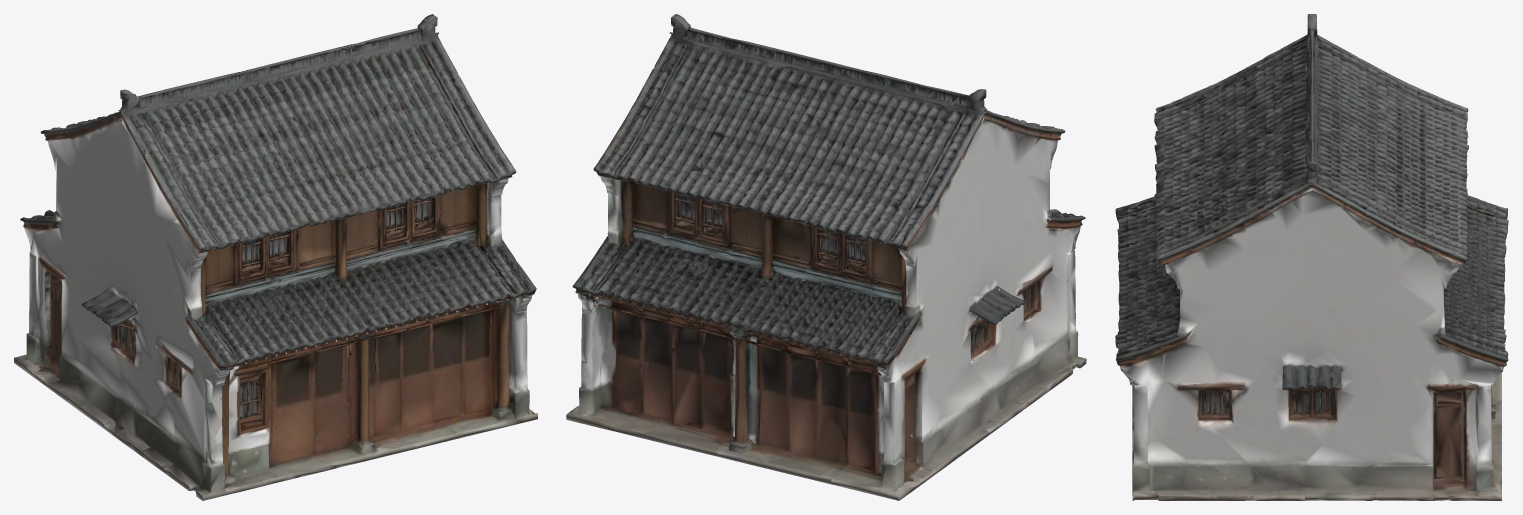
Rendered from bq_house_2f.glb.
The picture shows the model from 3 angles, left to right: view 1: azimuth 30°, elevation 25°; view 2: azimuth 150°, elevation 25°; view 3: azimuth 270°, elevation 25°; orthographic projection. The views are drawn at different scales.
Bounding box in the file's own units: 1.9 × 1.69 × 1.81.
Materials: 1 (1 with a texture image).
